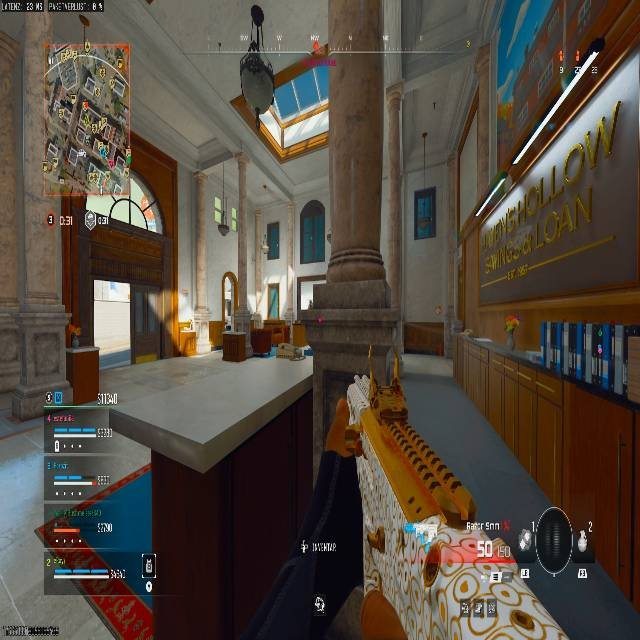head: (534, 506, 573, 563)
